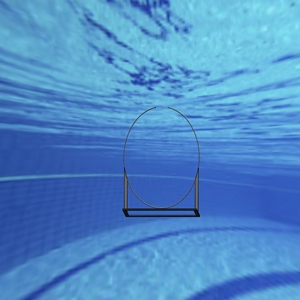circle: (121, 104, 201, 218)
